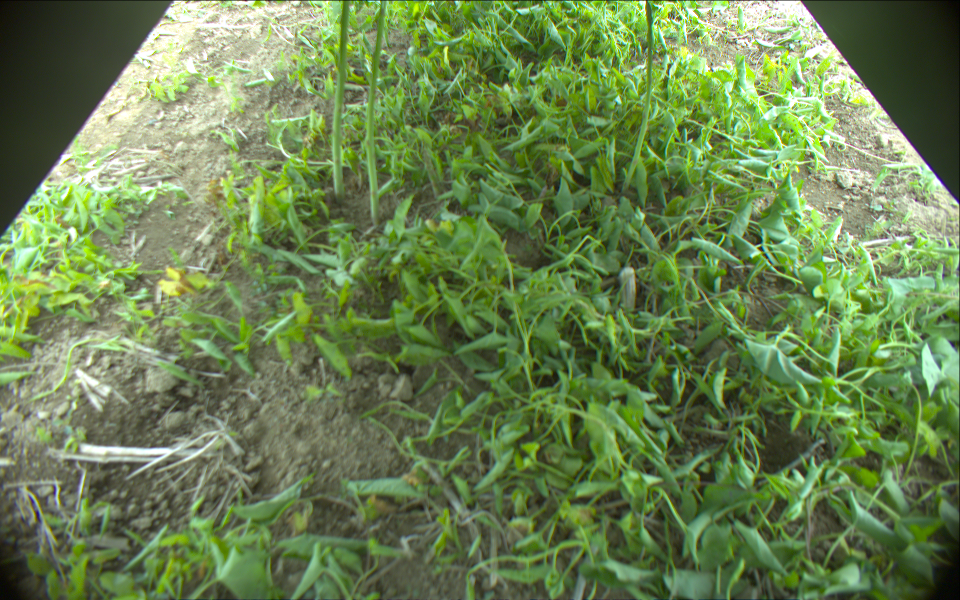aspa: (620, 1, 654, 195), (365, 1, 387, 224), (331, 1, 351, 194)
